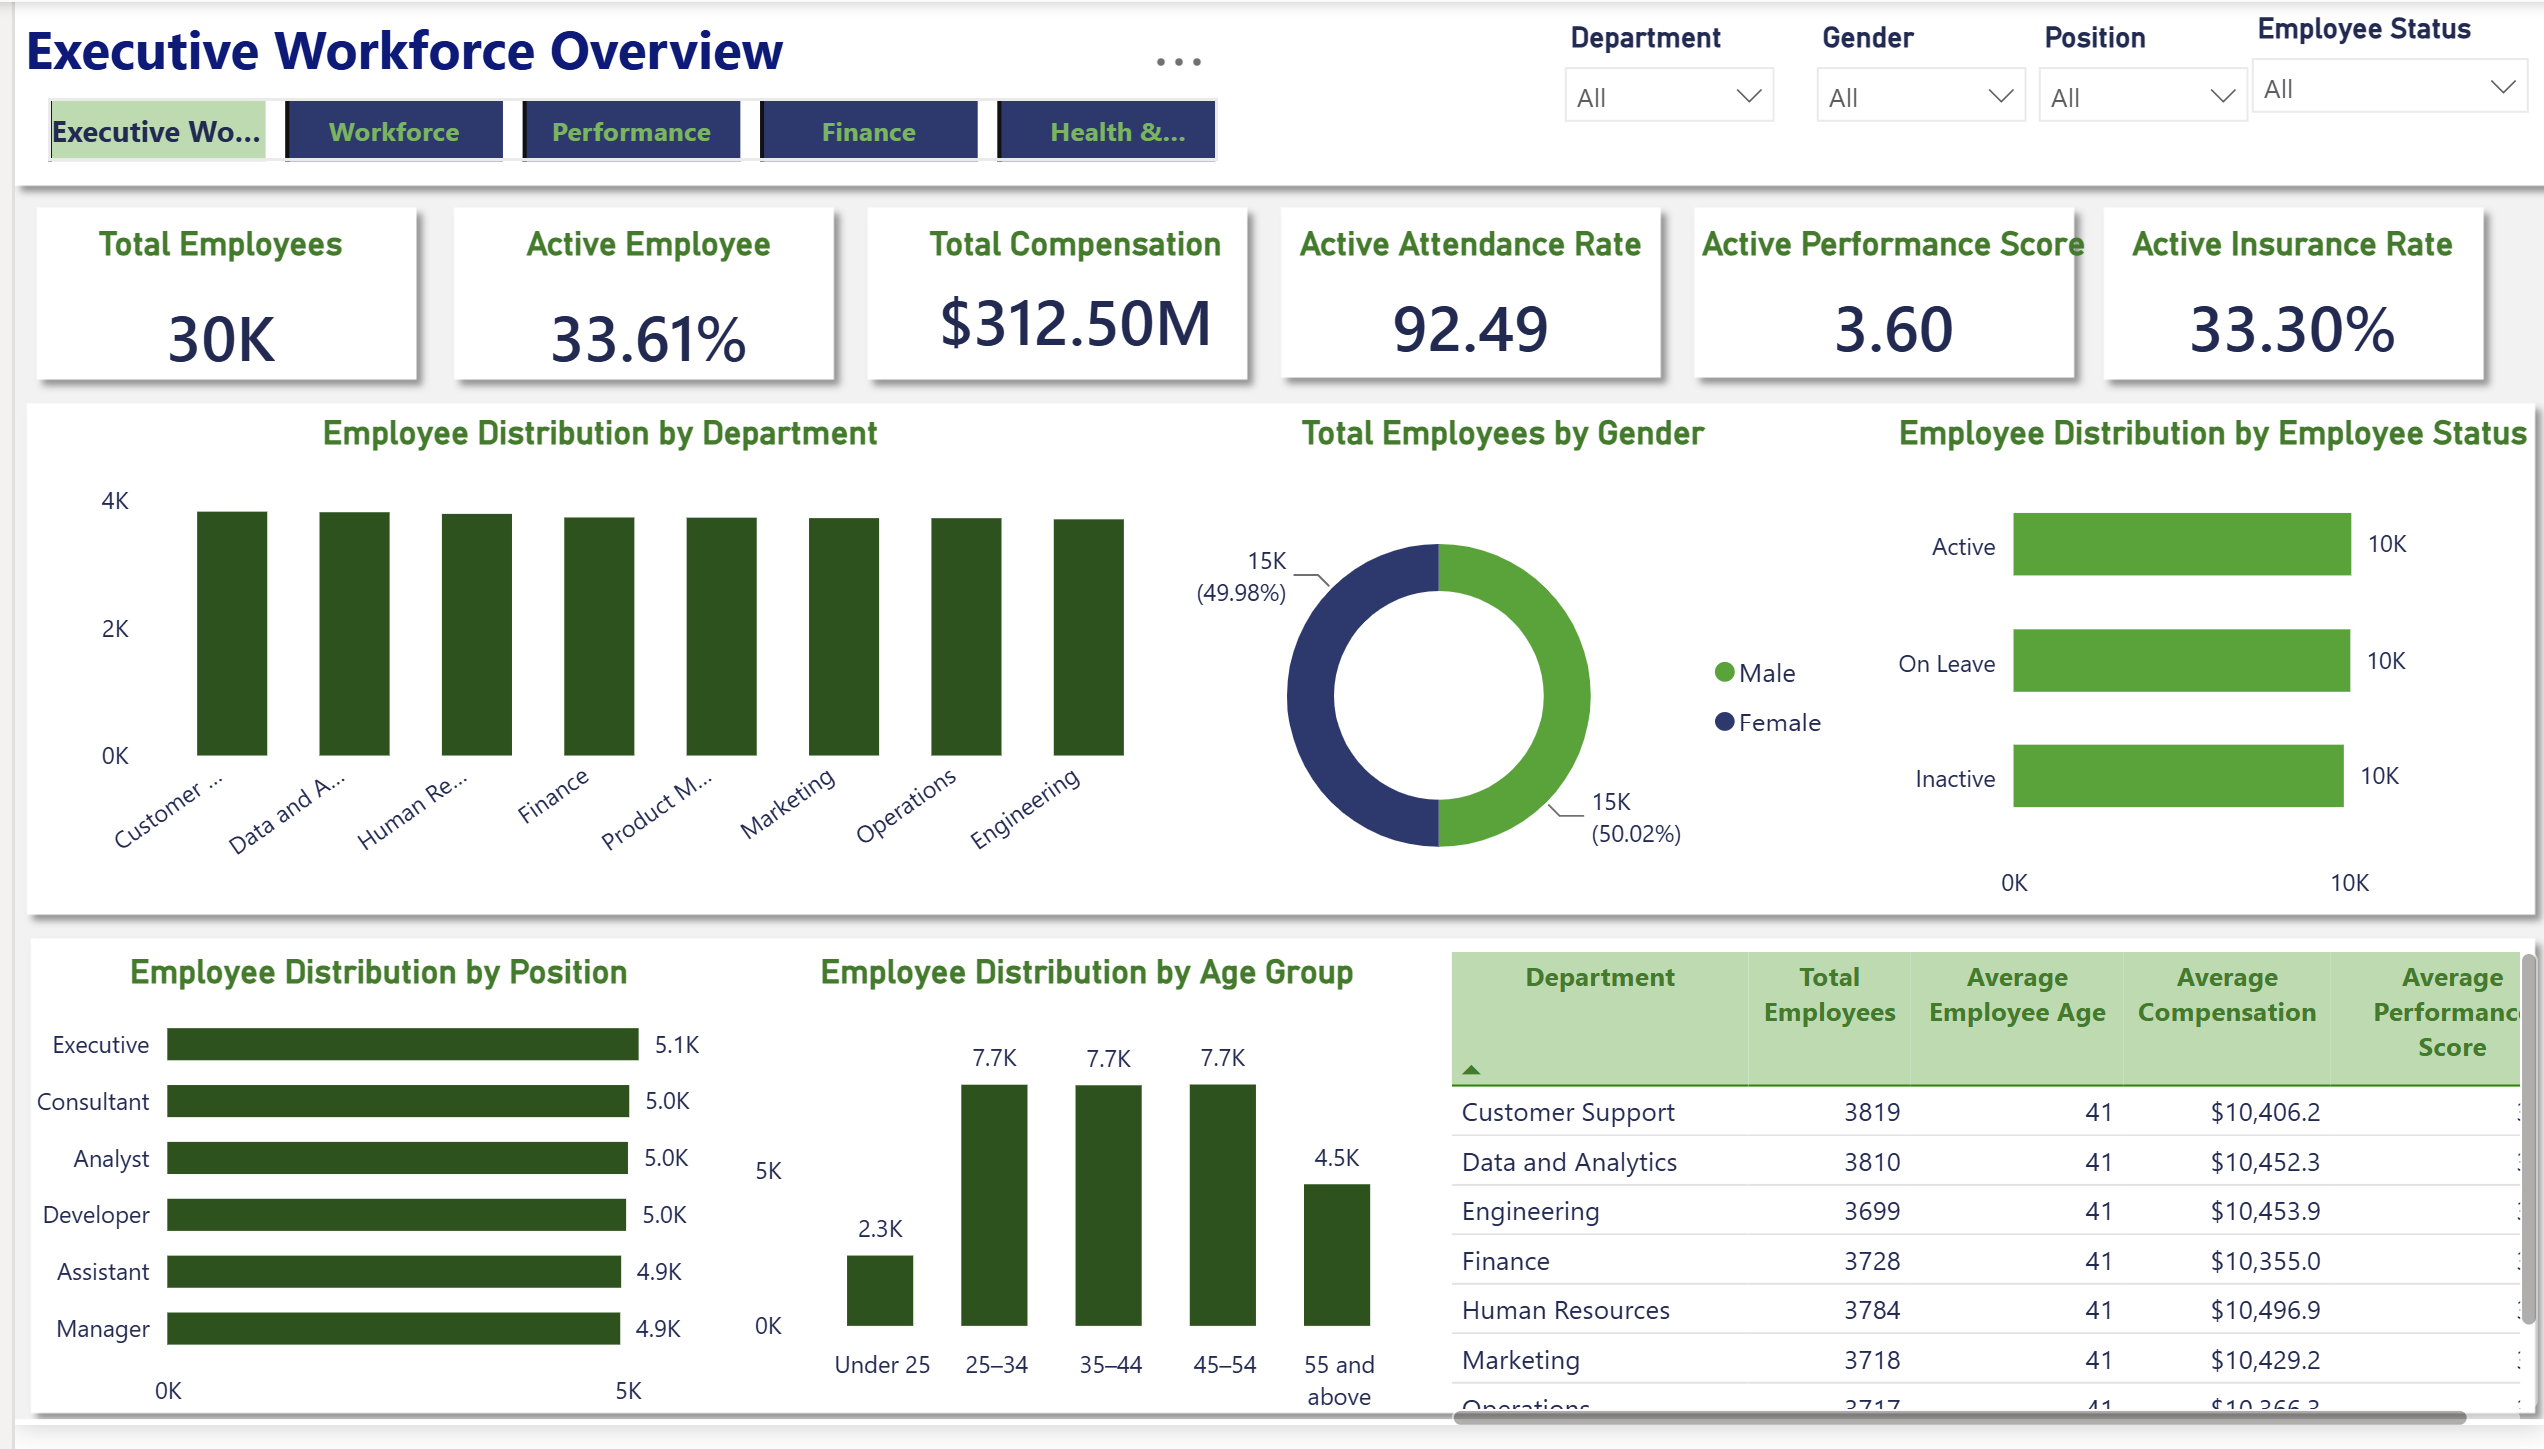

This screenshot's page, from the dashboard's own definition file:
{"tool":"powerbi","page":{"name":"Executive Work Force ","canvas":[1280,720],"ordinal":0},"visuals":[{"type":"cardVisual","title":"Active Insurance Rate","fields":{"Data":["company_hr_db vw_employee_profile.Active Insurance Rate"]},"box":[1056,112,192,86],"z":0},{"type":"columnChart","title":"Employee Distribution by Department","fields":{"Category":["company_hr_db vw_employee_profile.department_name"],"Y":["company_hr_db vw_employee_profile.Total Employees"]},"box":[0,208,592,256],"z":1000},{"type":"donutChart","title":"Total Employees by Gender","fields":{"Category":["company_hr_db vw_employee_profile.gender"],"Y":["company_hr_db vw_employee_profile.Total Employees"]},"box":[576,208,352,256],"z":2000},{"type":"clusteredBarChart","title":"Employee Distribution by Employee Status","fields":{"Category":["company_hr_db vw_employee_profile.employee_status"],"Y":["company_hr_db vw_employee_profile.Total Employees"]},"box":[944,208,336,256],"z":3000},{"type":"clusteredBarChart","title":"Employee Distribution by Position","fields":{"Category":["company_hr_db vw_employee_profile.position"],"Y":["company_hr_db vw_employee_profile.Total Employees"]},"box":[0,480,368,240],"z":4000},{"type":"clusteredColumnChart","title":"Employee Distribution by Age Group","fields":{"Category":["company_hr_db vw_employee_profile.Age Group"],"Y":["company_hr_db vw_employee_profile.Total Employees"]},"box":[368,480,347,240],"z":5000},{"type":"tableEx","fields":{"Values":["company_hr_db vw_employee_profile.department_name","company_hr_db vw_employee_profile.Total Employees","company_hr_db vw_employee_profile.Average Employee Age","company_hr_db vw_employee_profile.Average Compensation","company_hr_db vw_employee_performance_analysis.Average Performance Score"]},"box":[720,480,560,240],"z":6000},{"type":"textbox","box":[0,0,448,64],"z":7000},{"type":"slicer","fields":{"Values":["company_hr_db vw_employee_profile.department_name"]},"box":[773.3,3.8,126,64],"z":8000},{"type":"slicer","fields":{"Values":["company_hr_db vw_employee_profile.gender"]},"box":[901.3,3.8,126,64],"z":9000},{"type":"slicer","fields":{"Values":["company_hr_db vw_employee_profile.position"]},"box":[1013.3,3.8,126,64],"z":10000},{"type":"slicer","fields":{"Values":["company_hr_db vw_employee_profile.employee_status"]},"box":[1120,0,160,64],"z":11000},{"type":"cardVisual","title":"Active Performance Score","fields":{"Data":["company_hr_db vw_employee_performance_analysis.Average Performance Score"]},"box":[848,112,204,86],"z":12000},{"type":"cardVisual","title":"Total Compensation","fields":{"Data":["company_hr_db vw_employee_profile.Total Compensation"]},"box":[432,112,208,80],"z":13000},{"type":"cardVisual","title":"Active Attendance Rate","fields":{"Data":["company_hr_db vw_employee_performance_analysis.Average Attendance Rate"]},"box":[640,112,192,86],"z":14000},{"type":"cardVisual","title":"Total Employees","fields":{"Data":["company_hr_db vw_employee_profile.Total Employees"]},"box":[0,112,208,96],"z":15000},{"type":"cardVisual","title":"Active Employee","fields":{"Data":["company_hr_db vw_employee_profile.Active Employee Rate"]},"box":[224,112,192,96],"z":16000},{"type":"pageNavigator","box":[16,48,592,32],"z":17000}]}

Visuals, with their boxes on the page's 1280x720 design canvas (x1, y1, x2, y2). These are canvas units, not pixel positions in the 2544x1449 screenshot, which may show the page scaled, cropped or inside an application window:
"Active Insurance Rate" cardVisual: l=1056, t=112, r=1248, b=198
"Employee Distribution by Department" columnChart: l=0, t=208, r=592, b=464
"Total Employees by Gender" donutChart: l=576, t=208, r=928, b=464
"Employee Distribution by Employee Status" clusteredBarChart: l=944, t=208, r=1280, b=464
"Employee Distribution by Position" clusteredBarChart: l=0, t=480, r=368, b=720
"Employee Distribution by Age Group" clusteredColumnChart: l=368, t=480, r=715, b=720
tableEx - company_hr_db vw_employee_profile.department_name x company_hr_db vw_employee_profile.Total Employees: l=720, t=480, r=1280, b=720
textbox: l=0, t=0, r=448, b=64
slicer - company_hr_db vw_employee_profile.department_name: l=773, t=4, r=899, b=68
slicer - company_hr_db vw_employee_profile.gender: l=901, t=4, r=1027, b=68
slicer - company_hr_db vw_employee_profile.position: l=1013, t=4, r=1139, b=68
slicer - company_hr_db vw_employee_profile.employee_status: l=1120, t=0, r=1280, b=64
"Active Performance Score" cardVisual: l=848, t=112, r=1052, b=198
"Total Compensation" cardVisual: l=432, t=112, r=640, b=192
"Active Attendance Rate" cardVisual: l=640, t=112, r=832, b=198
"Total Employees" cardVisual: l=0, t=112, r=208, b=208
"Active Employee" cardVisual: l=224, t=112, r=416, b=208
pageNavigator: l=16, t=48, r=608, b=80
